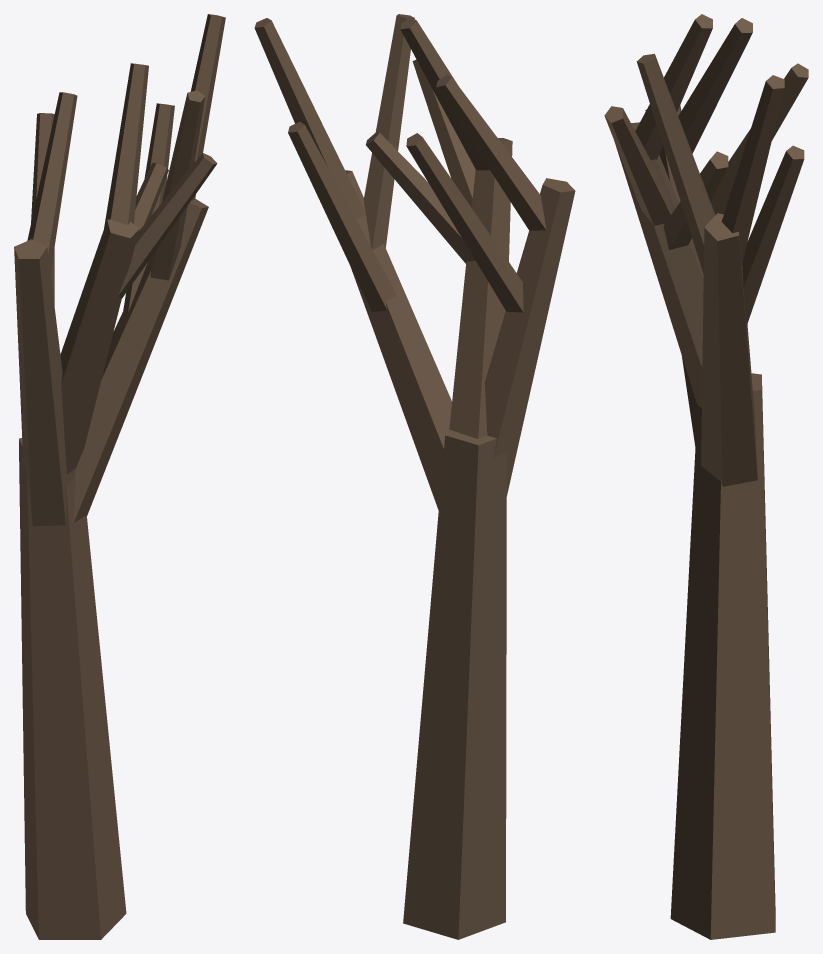
Rendered from SM_DeadTree_A.fbx.
The picture shows the model from 3 angles, left to right: view 1: azimuth 30°, elevation 25°; view 2: azimuth 150°, elevation 25°; view 3: azimuth 270°, elevation 25°; orthographic projection. The views are drawn at different scales.
Visible parts, largest first — view 1: DeadTree_A; view 2: DeadTree_A; view 3: DeadTree_A.
Boxes of the visible parts, bbox=[...] form: DeadTree_A: bbox=[14, 14, 225, 939]; DeadTree_A: bbox=[254, 14, 575, 939]; DeadTree_A: bbox=[604, 14, 808, 939].
Size of the model in its own units: 113 by 70.44 by 355.
